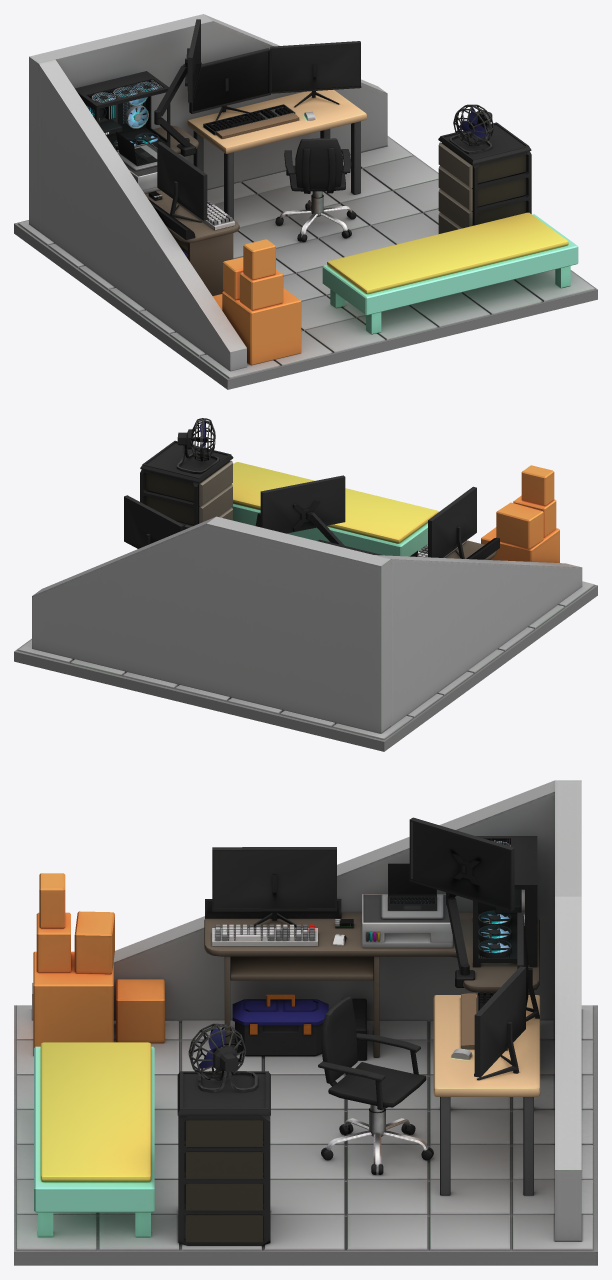
The model's file is home_pc_2025_v1.glb.
The picture shows the model from 3 angles, top to bottom: view 1: azimuth 30°, elevation 25°; view 2: azimuth 150°, elevation 25°; view 3: azimuth 270°, elevation 25°; orthographic projection. The views are drawn at different scales.
Parts seen in each view (by area): view 1: platform.001, Sphere.002; view 2: platform.001, Sphere.002; view 3: platform.001, Sphere.002.
Boxes of the visible parts, box(x1,y1,x2,y2) form: platform.001: box(14, 14, 597, 389); Sphere.002: box(453, 104, 493, 145); platform.001: box(14, 440, 597, 751); Sphere.002: box(190, 418, 215, 461); platform.001: box(14, 780, 597, 1265); Sphere.002: box(188, 1023, 245, 1080).
Bounding box in the file's own units: 14.54 × 7.48 × 14.54.
1 material, 1 textured.
